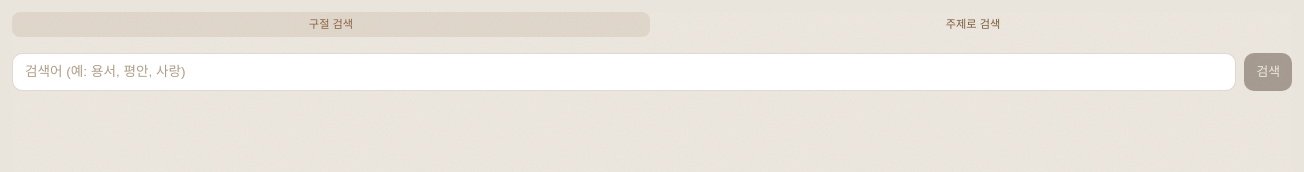
Test: SearchPanel › 주제 모드 매칭 없음 → 안내 문구
Click the tab "주제로 검색": (973, 24) [654,12,1292,37]
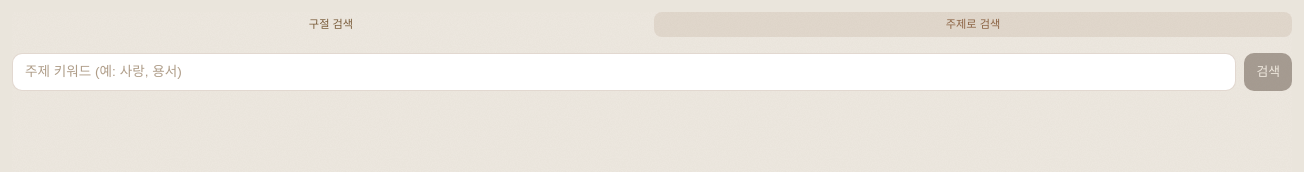
In the field with placeholder "주제 키워드 (예: 사랑, 용서)": (624, 72) [12,53,1236,91], type "zzznotfound"
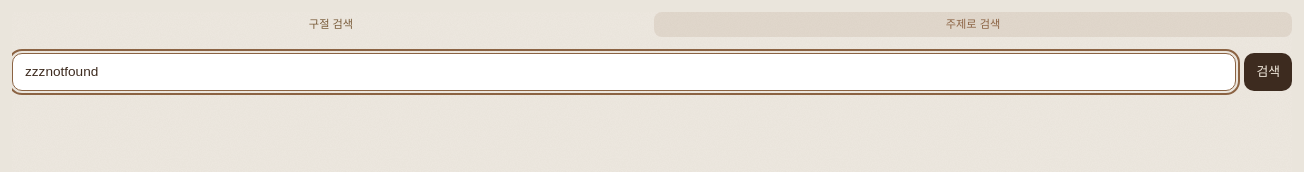
Click the button "검색": (1268, 72) [1244,53,1292,91]
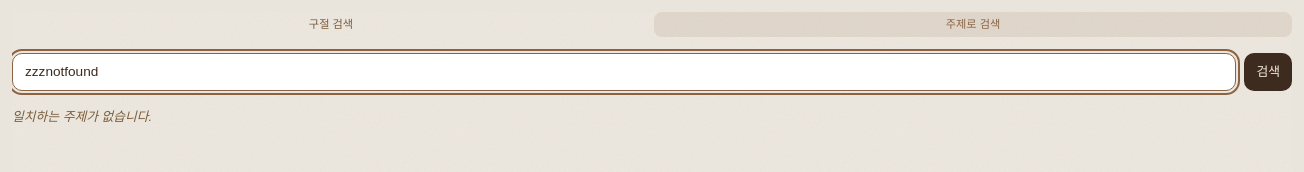
Now the text "일치하는 주제가 없습니다." is shown, box [12,109,152,124]
